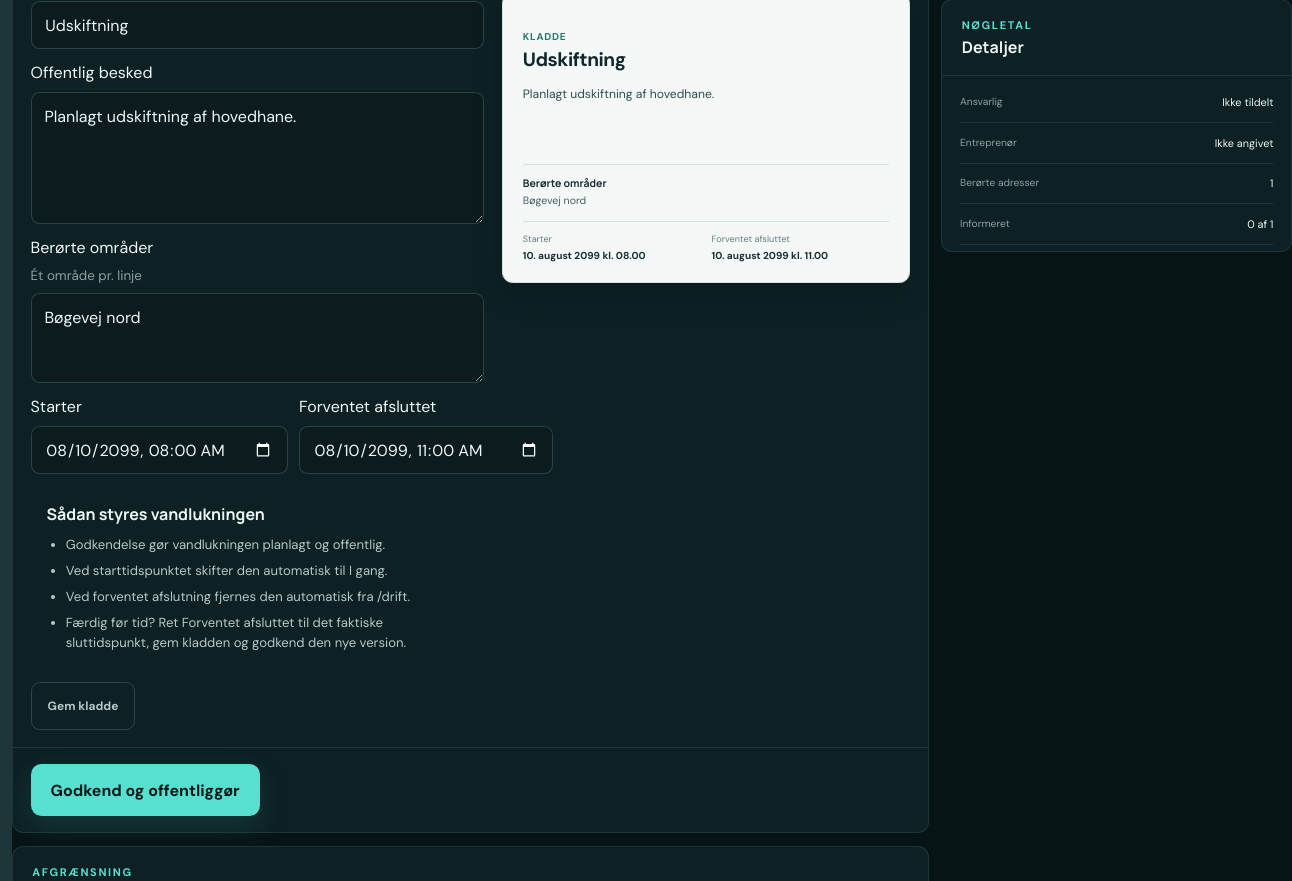
viser automatisk status og tillader kun aflysning før start
(page scrolled)
Expected: the dropdown labelled "Status" is not shown
Replace the text in the field labelled "Starter" with "2026-08-10T12:30" at (159, 450), box [31,426,288,474]
(page scrolled)
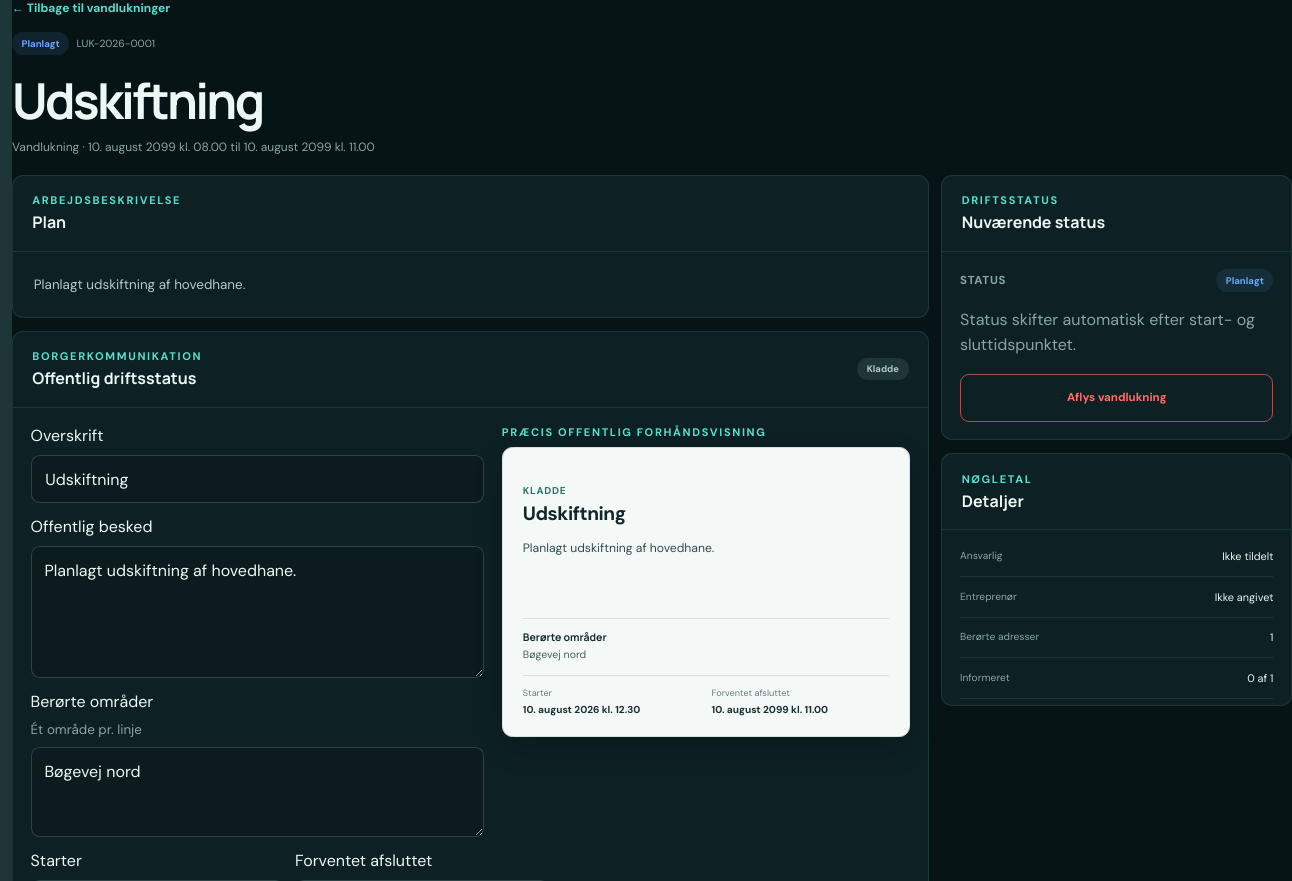
Expected: the text "Status skifter automatisk efter start- og sluttidspunktet." is shown, [960,308,1273,358]
Click the button "Aflys vandlukning" at (1117, 398), box [960,374,1273,422]
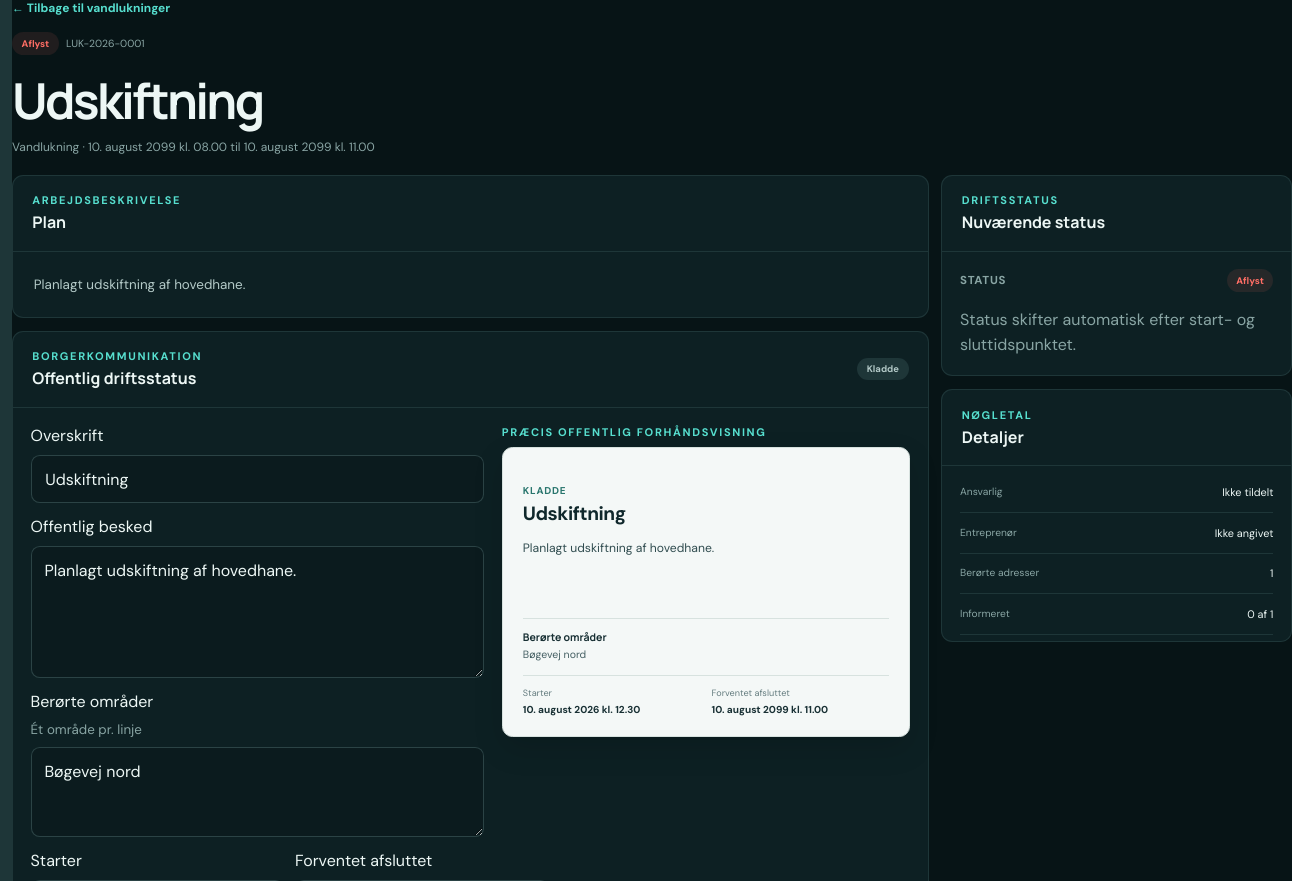
Expected: the button "Aflys vandlukning" is gone
